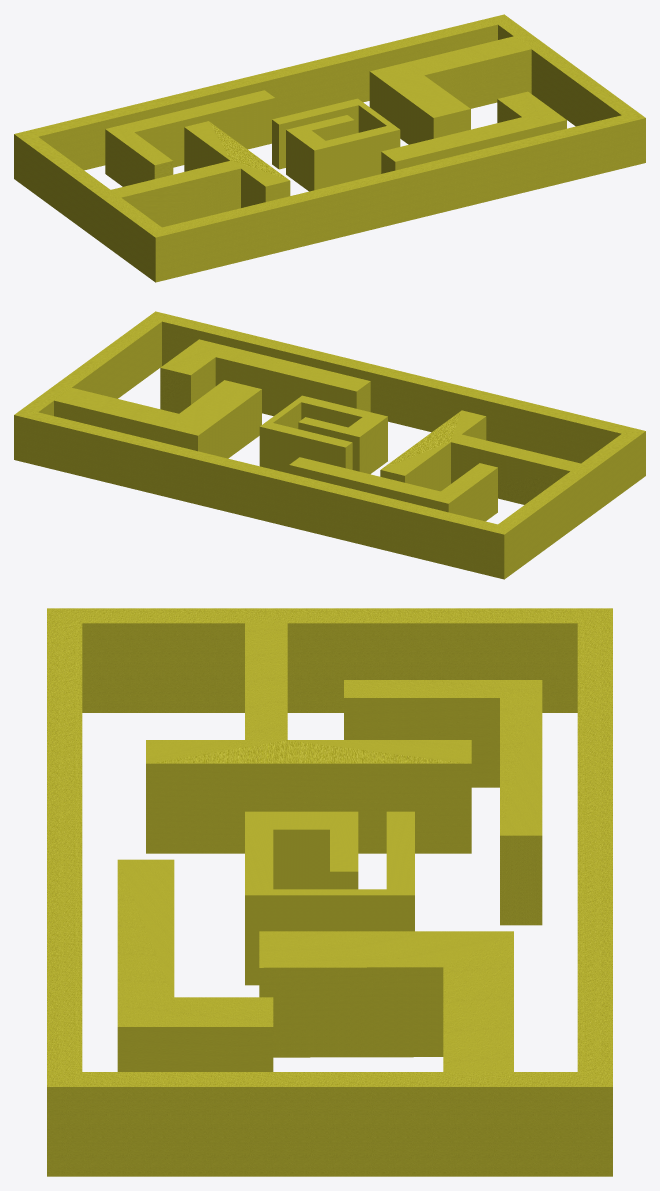
Rendered from Level6.obj.
The picture shows the model from 3 angles, top to bottom: view 1: azimuth 30°, elevation 25°; view 2: azimuth 150°, elevation 25°; view 3: azimuth 270°, elevation 25°; orthographic projection. The views are drawn at different scales.
Visible parts, largest first — view 1: Rectangle01, Line03, Line01, Line05, Line02, Line04; view 2: Rectangle01, Line03, Line04, Line01, Line05, Line02; view 3: Rectangle01, Line01, Line03, Line02, Line04, Line05.
Part boxes in pixels (<box>): Rectangle01: <box>14,14,645,282</box>; Line03: <box>369,36,535,144</box>; Line01: <box>111,121,290,227</box>; Line05: <box>272,98,400,191</box>; Line02: <box>105,90,275,186</box>; Line04: <box>381,91,566,173</box>; Rectangle01: <box>14,311,645,579</box>; Line03: <box>54,380,261,458</box>; Line04: <box>160,339,370,416</box>; Line01: <box>380,410,582,504</box>; Line05: <box>259,395,387,474</box>; Line02: <box>289,457,497,521</box>; Rectangle01: <box>47,608,612,1176</box>; Line01: <box>146,621,471,853</box>; Line03: <box>259,931,513,1077</box>; Line02: <box>344,680,542,925</box>; Line04: <box>117,859,273,1071</box>; Line05: <box>245,811,414,985</box>.
Size of the model in its own units: 8 by 0.7 by 4.
